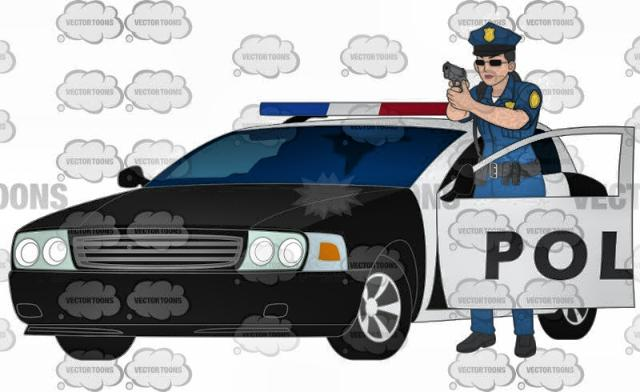pistol: (437, 58, 473, 98)
